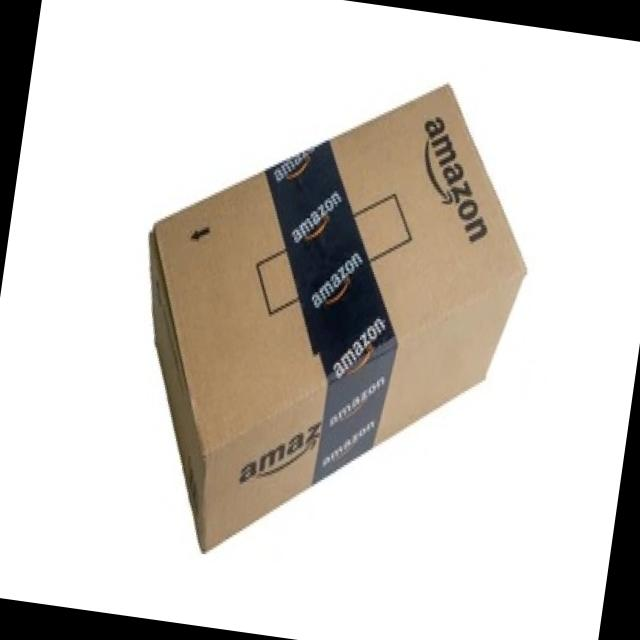box: (151, 81, 526, 554)
